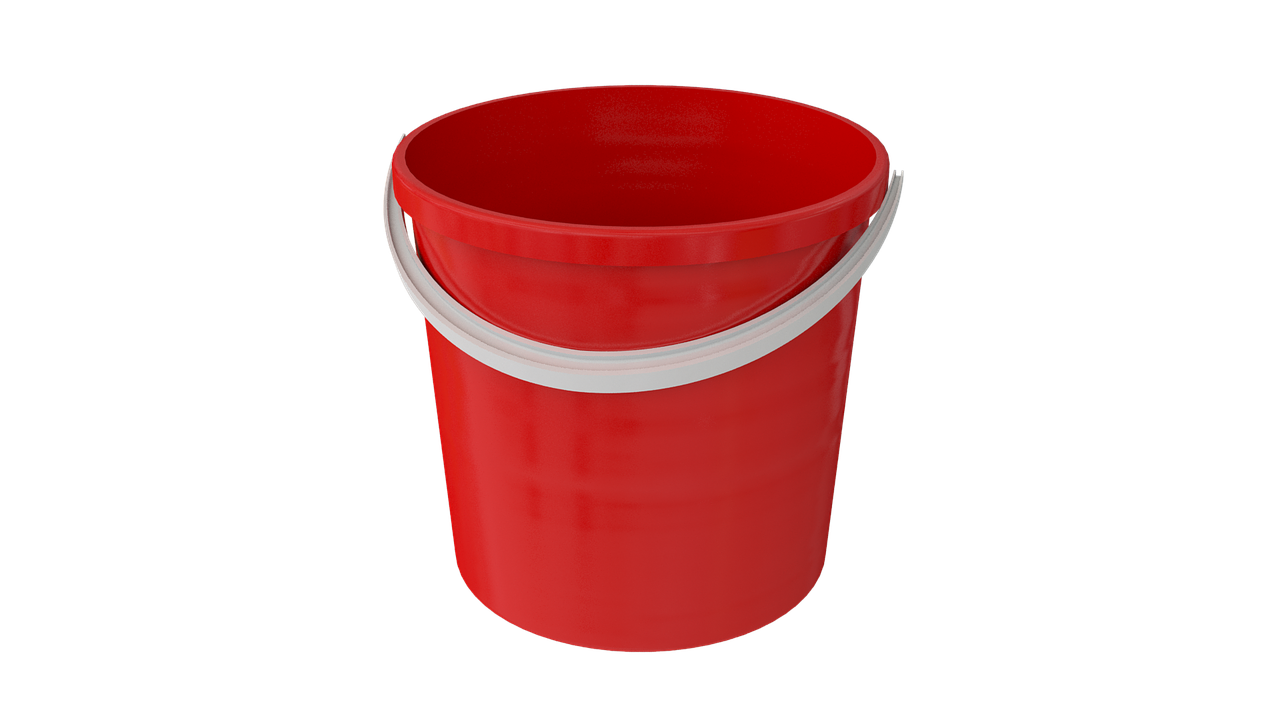Rec_Plastic: (368, 49, 920, 651)
